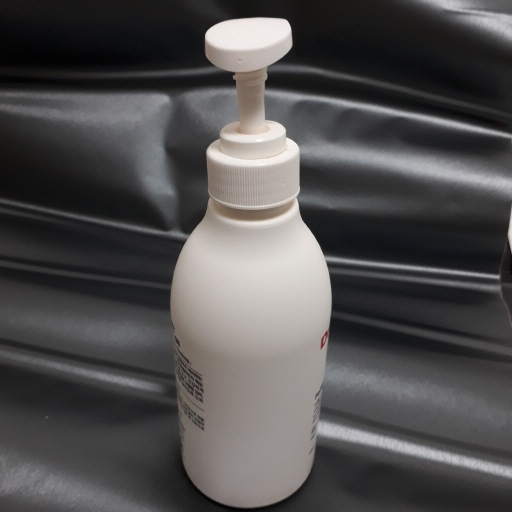Plastic_3: (166, 14, 331, 512)
